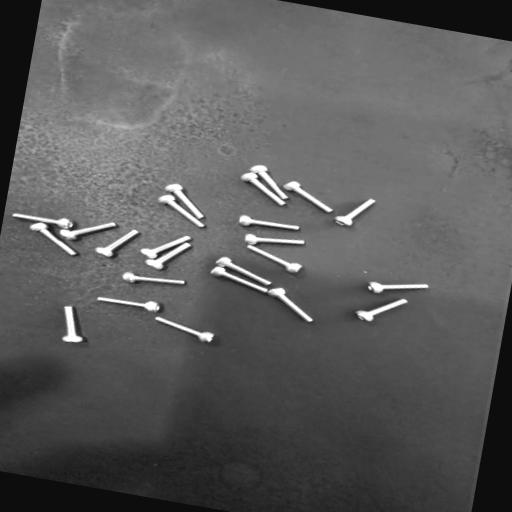Bolt: (30, 223, 78, 256), (216, 257, 271, 285), (284, 182, 333, 213), (159, 195, 205, 228), (268, 288, 312, 322), (155, 317, 214, 342), (247, 245, 301, 272), (211, 267, 267, 293), (241, 173, 285, 205), (165, 184, 204, 219), (250, 166, 288, 200), (146, 243, 191, 270), (96, 230, 139, 257), (141, 236, 191, 259), (356, 299, 407, 321), (335, 199, 375, 226), (60, 223, 117, 240), (13, 213, 73, 229), (98, 297, 161, 312), (239, 216, 299, 230), (123, 272, 185, 285), (62, 306, 84, 342), (368, 282, 428, 293), (245, 234, 305, 245)
